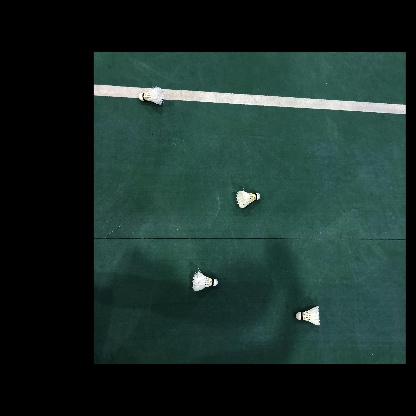ball_single: (192, 272, 218, 291), (296, 306, 320, 325), (139, 87, 164, 105), (236, 191, 260, 208)
